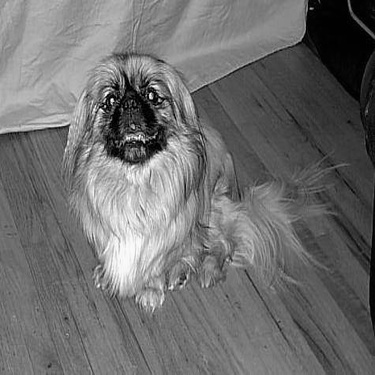dog: (52, 42, 360, 319)
